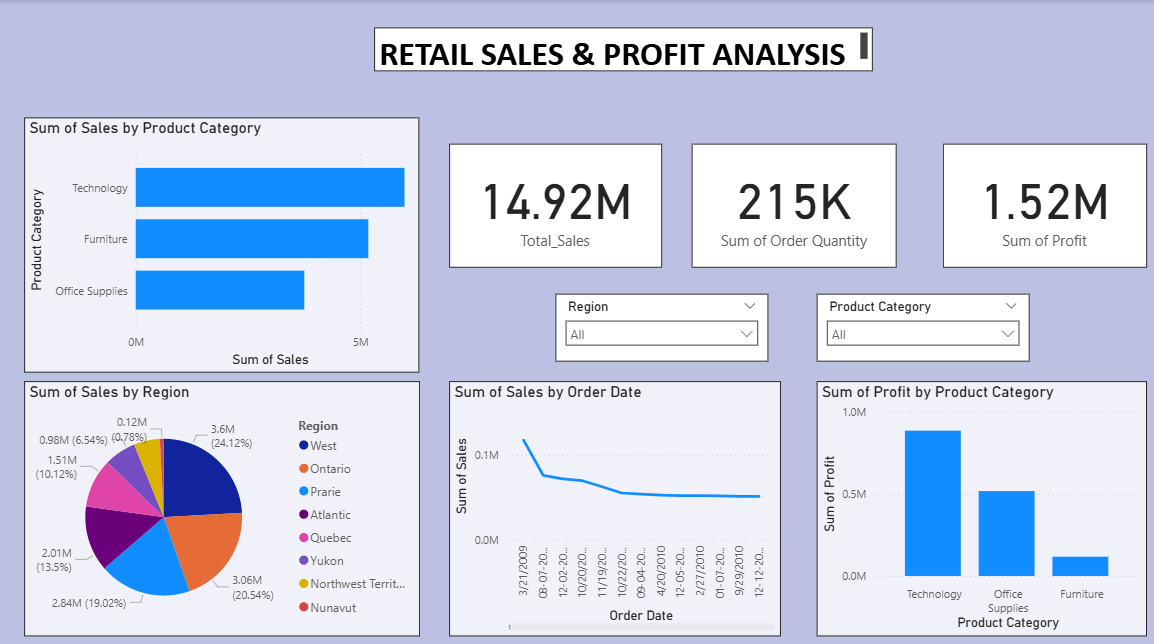

Layout of this report page (visuals, bound fields, positions):
{"tool":"powerbi","page":{"name":"Page 1","canvas":[1280,720],"ordinal":0},"visuals":[{"type":"clusteredBarChart","fields":{"Category":["Sheet1.Product Category"],"Y":["Sum(Sheet1.Sales)"]},"box":[28.8,129,433.6,279.9],"z":0},{"type":"pieChart","fields":{"Category":["Sheet1.Region"],"Y":["Sum(Sheet1.Sales)"]},"box":[29,419,434,280],"z":1000},{"type":"lineChart","fields":{"Category":["Sheet1.Order Date"],"Y":["Sum(Sheet1.Sales)"]},"box":[495.4,418.5,363.6,279.9],"z":2000},{"type":"clusteredColumnChart","fields":{"Category":["Sheet1.Product Category"],"Y":["Sum(Sheet1.Profit)"]},"box":[898.8,418.5,362.3,279.9],"z":3000},{"type":"card","fields":{"Values":["Sheet1.Total_Sales"]},"box":[495.4,157.8,233.3,135.8],"z":4000},{"type":"card","fields":{"Values":["Sum(Sheet1.Order Quantity)"]},"box":[761.6,157.8,225,135.8],"z":5000},{"type":"card","fields":{"Values":["Sum(Sheet1.Profit)"]},"box":[1037.4,157.8,223.7,135.8],"z":6000},{"type":"slicer","fields":{"Values":["Sheet1.Region"]},"box":[612,322.5,233.3,74.1],"z":7000},{"type":"slicer","fields":{"Values":["Sheet1.Product Category"]},"box":[898.8,322.5,233.3,74.1],"z":8000},{"type":"textbox","box":[413,30.2,547.5,48],"z":9000}]}

Visuals, with their boxes in screenshot pixels (x1, y1, x2, y2), scaled from the page's 1280x720 canvas onto the 1154x644 screenshot:
clusteredBarChart - Sheet1.Product Category x Sum(Sheet1.Sales): x1=26 y1=115 x2=417 y2=366
pieChart - Sheet1.Region x Sum(Sheet1.Sales): x1=26 y1=375 x2=417 y2=625
lineChart - Sheet1.Order Date x Sum(Sheet1.Sales): x1=447 y1=374 x2=774 y2=625
clusteredColumnChart - Sheet1.Product Category x Sum(Sheet1.Profit): x1=810 y1=374 x2=1137 y2=625
card - Sheet1.Total_Sales: x1=447 y1=141 x2=657 y2=263
card - Sum(Sheet1.Order Quantity): x1=687 y1=141 x2=889 y2=263
card - Sum(Sheet1.Profit): x1=935 y1=141 x2=1137 y2=263
slicer - Sheet1.Region: x1=552 y1=288 x2=762 y2=355
slicer - Sheet1.Product Category: x1=810 y1=288 x2=1021 y2=355
textbox: x1=372 y1=27 x2=866 y2=70
